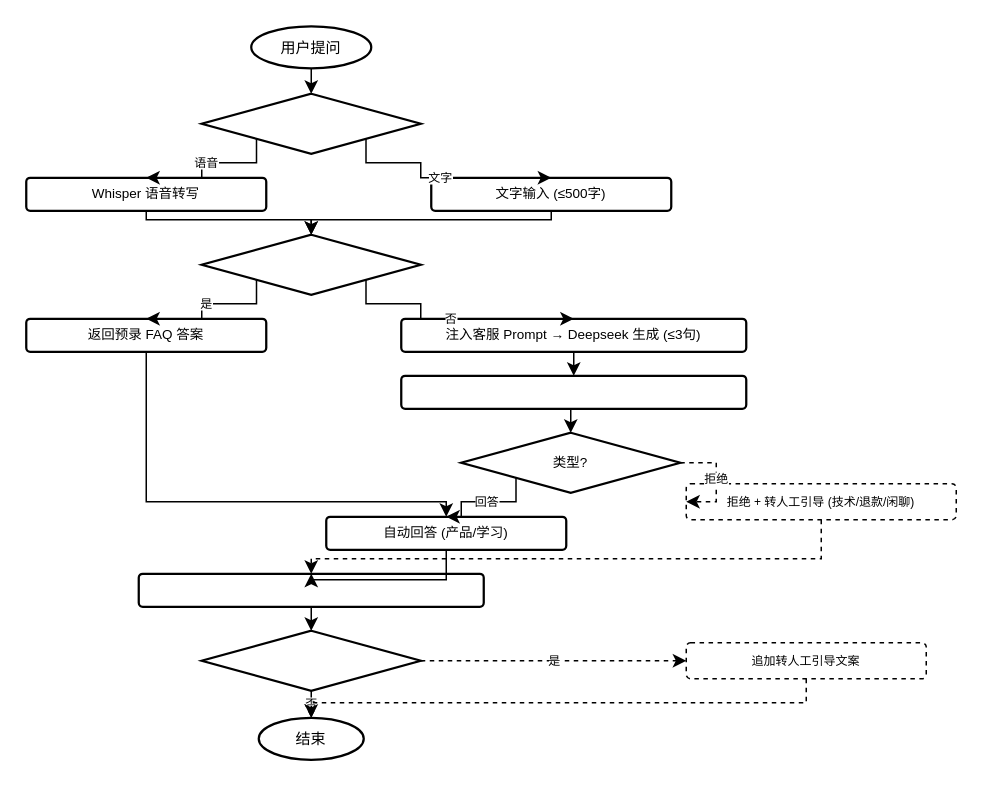
Image size: 984x788. Some labels were removed from this diagram. Each missing label, with the centre of its shape:
"Deepseek 问题分类 (产品/学习/技术/退款/闲聊)" goes at point 573,391.
"前端气泡展示 + 写入 support_sessions" goes at point 310,589.
"匹配 FAQ?" goes at point 310,264.
"输入方式?" goes at point 310,123.
"连续3次同问题?" goes at point 310,660.
